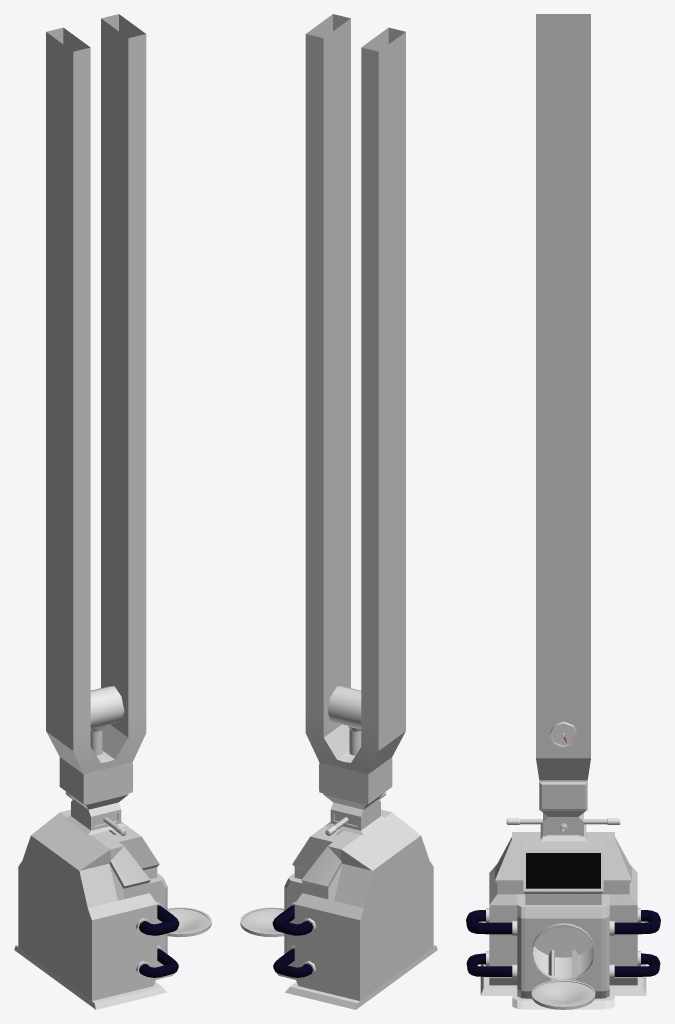
The model's file is TorpedoLauncher.fbx.
3 renders of one model, left to right at view 1: azimuth 30°, elevation 25°; view 2: azimuth 150°, elevation 25°; view 3: azimuth 270°, elevation 25°, orthographic.
Parts seen in each view (by area): view 1: Torpedo launcher; view 2: Torpedo launcher; view 3: Torpedo launcher.
Boxes of the visible parts, x1,y1,x2,y2 form: Torpedo launcher: (14,14,211,1009); Torpedo launcher: (240,14,437,1009); Torpedo launcher: (466,14,660,1009).
Size of the model in its own units: 183 by 1074 by 200.
